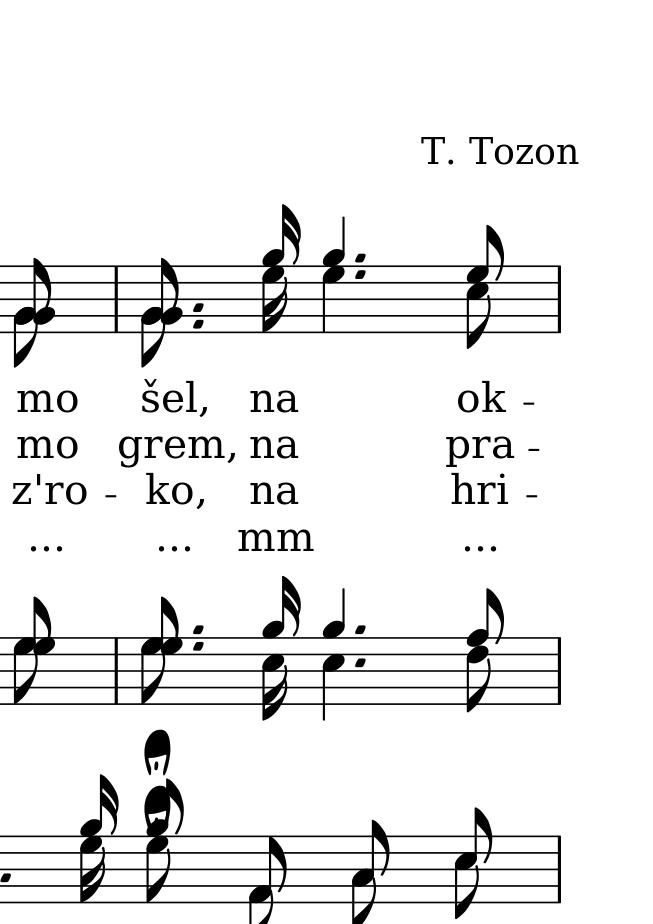4_7_9: (323, 218, 346, 331)
Single_barline: (550, 835, 568, 904), (550, 265, 567, 332), (550, 637, 567, 703), (108, 266, 124, 330), (108, 638, 124, 702)
dot: (351, 265, 368, 281)
